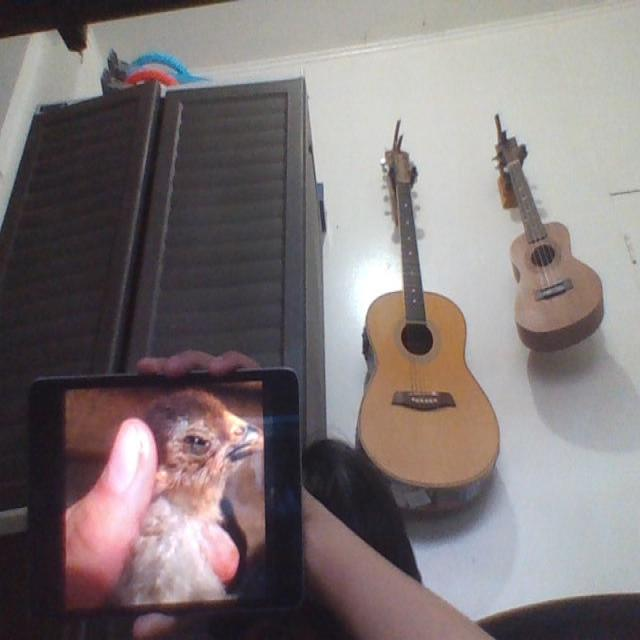Sick: (128, 390, 264, 605)
